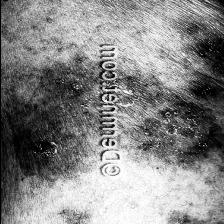Non-Cancerous Skin Condition: (10, 64, 96, 182), (120, 93, 220, 172), (32, 140, 56, 156)
